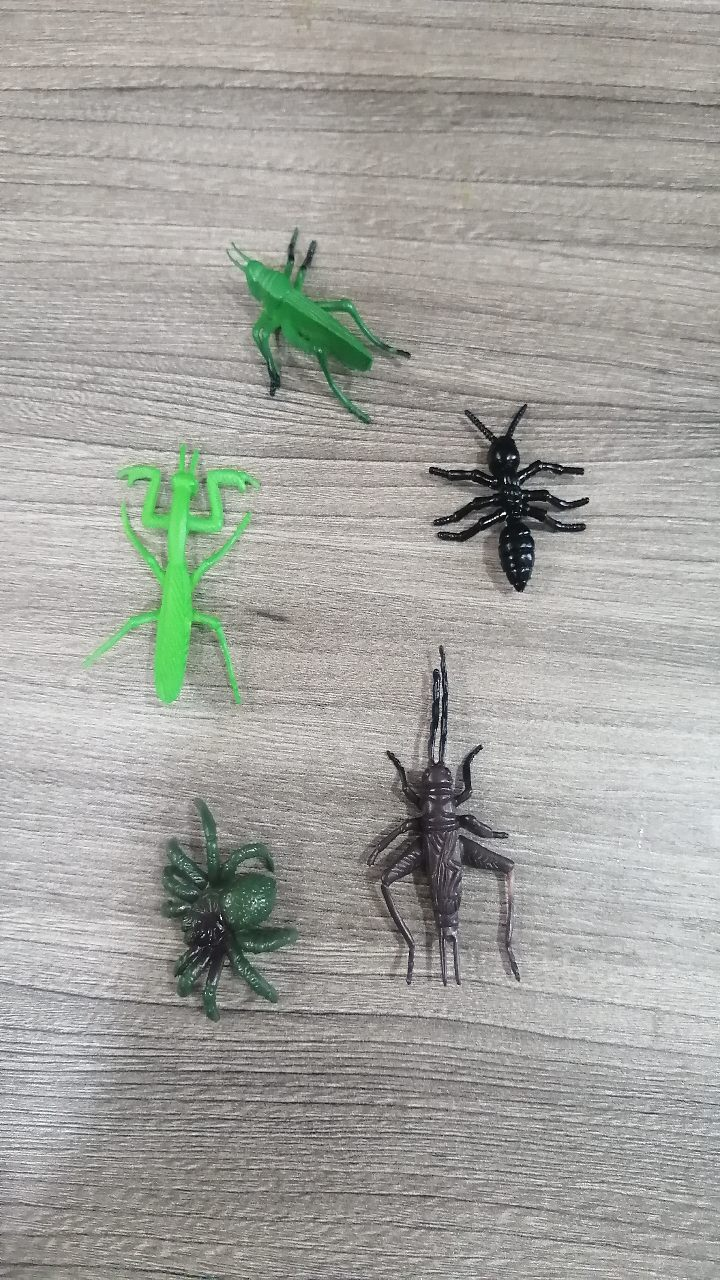intruso: (323, 626, 549, 1042), (109, 743, 338, 1071), (75, 429, 275, 748), (206, 174, 414, 449), (411, 366, 626, 617)
